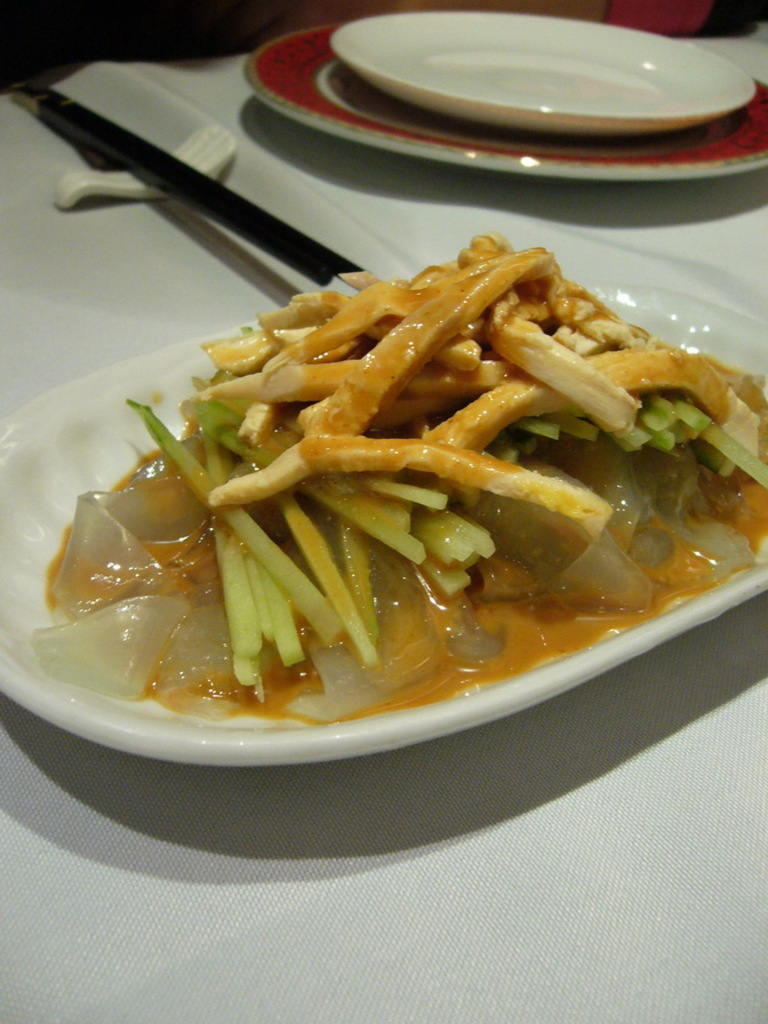plate: (327, 16, 757, 126)
